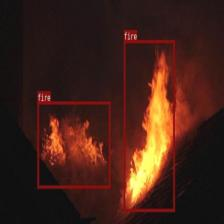fire: (124, 40, 174, 211), (37, 101, 110, 188)
